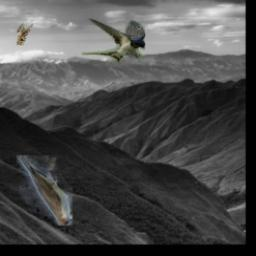Cuckoo: (17, 156, 73, 227)
Sparrow: (17, 24, 34, 46)
Swallow: (83, 18, 146, 63)
